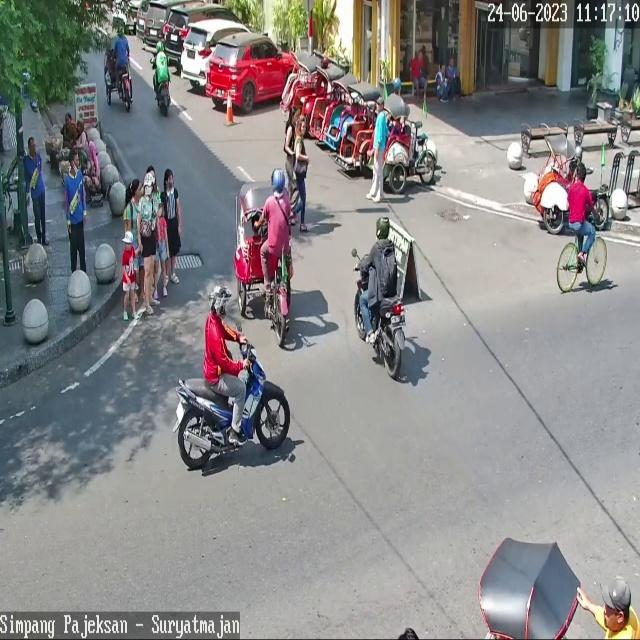bus: (172, 338, 291, 468), (356, 252, 408, 377), (157, 81, 172, 115)
motorcycle: (206, 33, 300, 111), (163, 4, 246, 64), (181, 21, 252, 87), (143, 0, 169, 53)
